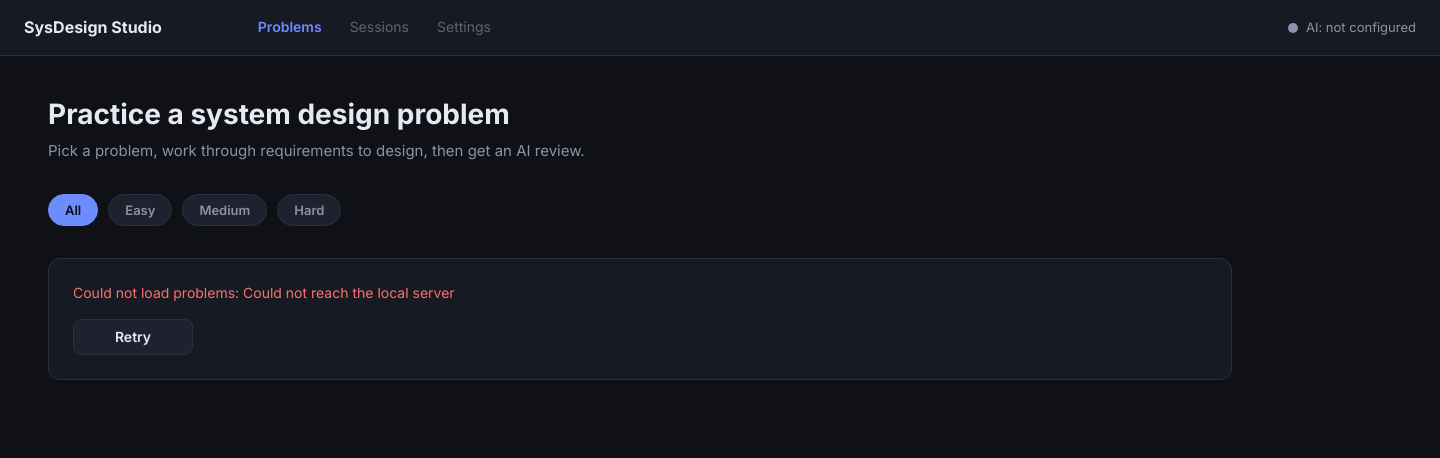
HomePage › shows a retryable error when the server is unreachable, and recovers on Retry
Expected: the message shows "Could not reach the local server", top-left (73, 284), bottom-right (455, 301)
What coordinates should you click on to do the following:
click the button "Retry"
I would click on:
 (133, 337)
Its box is top-left (73, 319), bottom-right (193, 355).
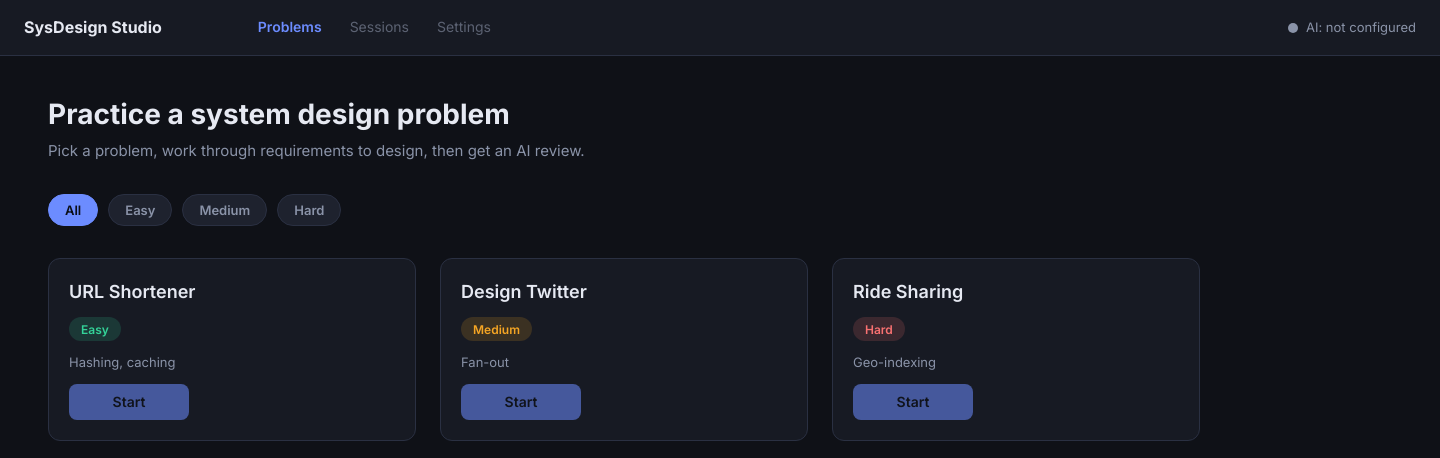
Expected: the heading "URL Shortener" is shown, top-left (69, 279), bottom-right (196, 305)
